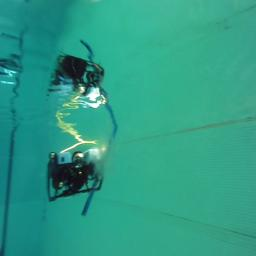front: (46, 150, 102, 202)
